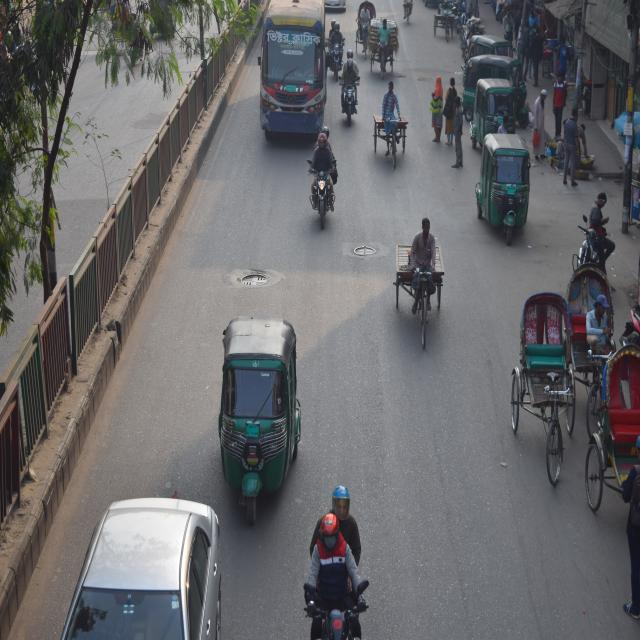bus: (252, 0, 331, 137)
car: (43, 478, 229, 640)
motorbike: (289, 523, 370, 640), (300, 146, 340, 230), (572, 214, 608, 287), (334, 62, 362, 121), (324, 23, 344, 84)
